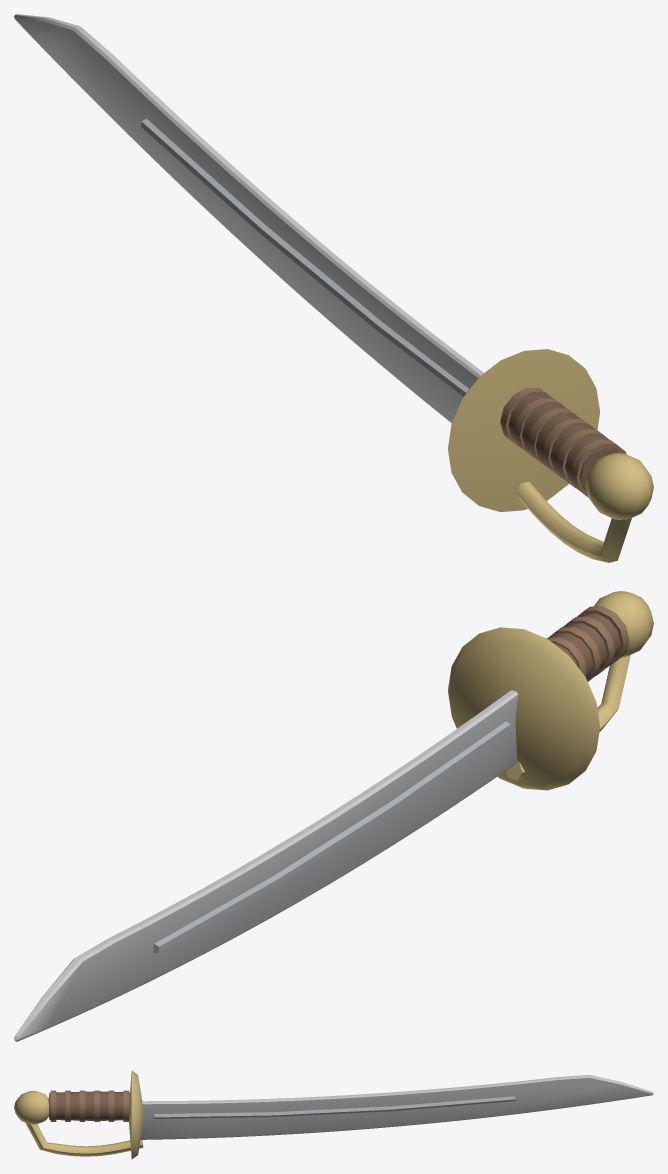
File: cutlass.glb
3 renders of one model, top to bottom at view 1: azimuth 30°, elevation 25°; view 2: azimuth 150°, elevation 25°; view 3: azimuth 270°, elevation 25°, orthographic. The views are drawn at different scales.
Parts seen in each view (by area): view 1: cutlass; view 2: cutlass; view 3: cutlass.
Boxes of the visible parts, x1,y1,x2,y2 form: cutlass: [14, 14, 653, 562]; cutlass: [14, 591, 653, 1041]; cutlass: [14, 1070, 653, 1159].
Bounding box in the file's own units: 0.112 × 0.112 × 0.794.
